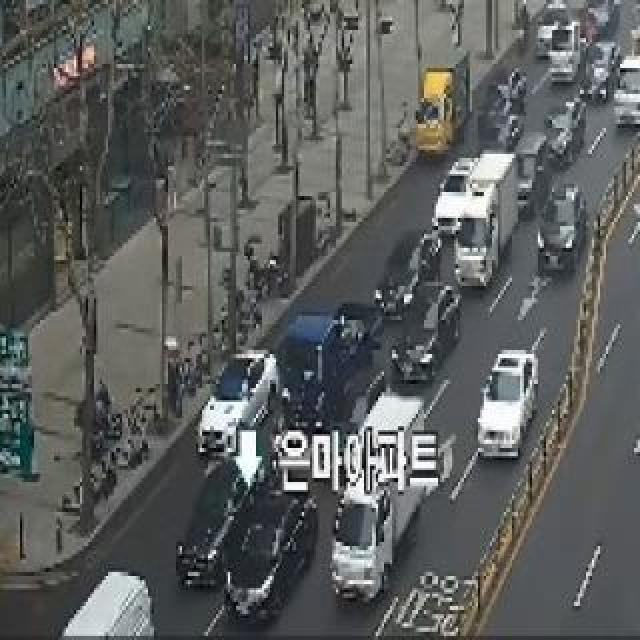motorbike: (239, 238, 287, 302), (509, 0, 535, 60), (628, 0, 640, 30)
truck: (328, 393, 436, 605), (275, 289, 375, 427), (456, 147, 520, 287), (409, 49, 473, 157), (548, 17, 588, 83), (610, 48, 640, 128)
